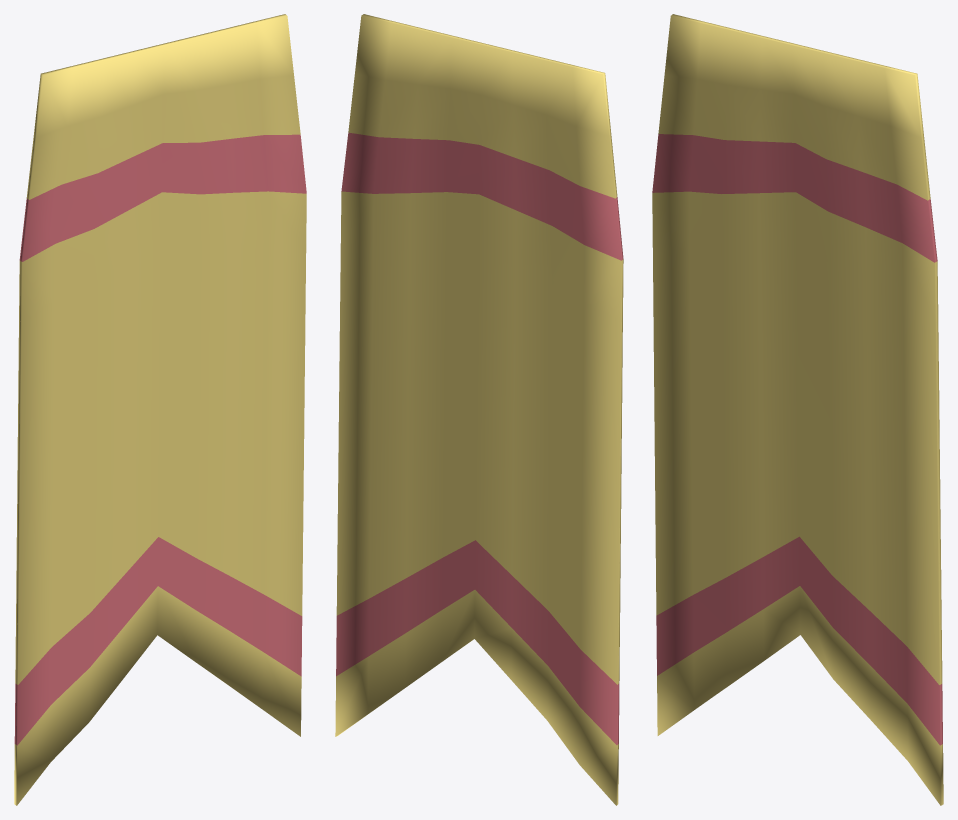
File: banner_yellow_a.glb
3 views of the same model, side by side, from view 1: azimuth 30°, elevation 25°; view 2: azimuth 150°, elevation 25°; view 3: azimuth 330°, elevation 25° (orthographic).
Parts seen in each view (by area): view 1: banner_yellow_a; view 2: banner_yellow_a; view 3: banner_yellow_a.
Boxes of the visible parts, left/top/right/bottom form: banner_yellow_a: left=14, top=14, right=306, bottom=805; banner_yellow_a: left=335, top=14, right=623, bottom=805; banner_yellow_a: left=652, top=14, right=943, bottom=805.
Bounding box in the file's own units: 1.1 × 2.7 × 0.0793.
